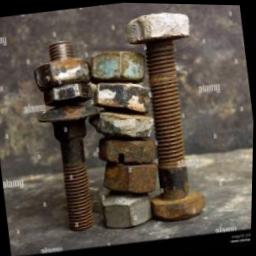Corroded-Bolt: (145, 41, 206, 220), (40, 106, 98, 230), (34, 40, 91, 92)
Corroded-Nut: (127, 11, 190, 45), (91, 82, 153, 114), (90, 110, 155, 139), (103, 161, 160, 194), (92, 49, 145, 84), (98, 136, 157, 164)
Non-corroded Nut: (102, 193, 154, 229)
